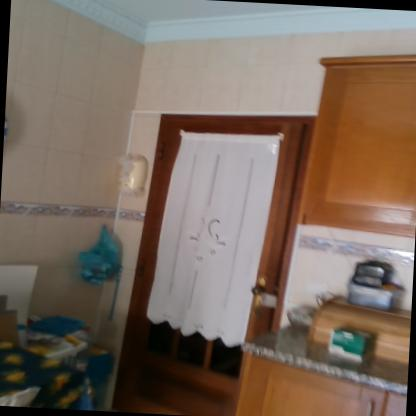closed: (132, 99, 316, 398)
